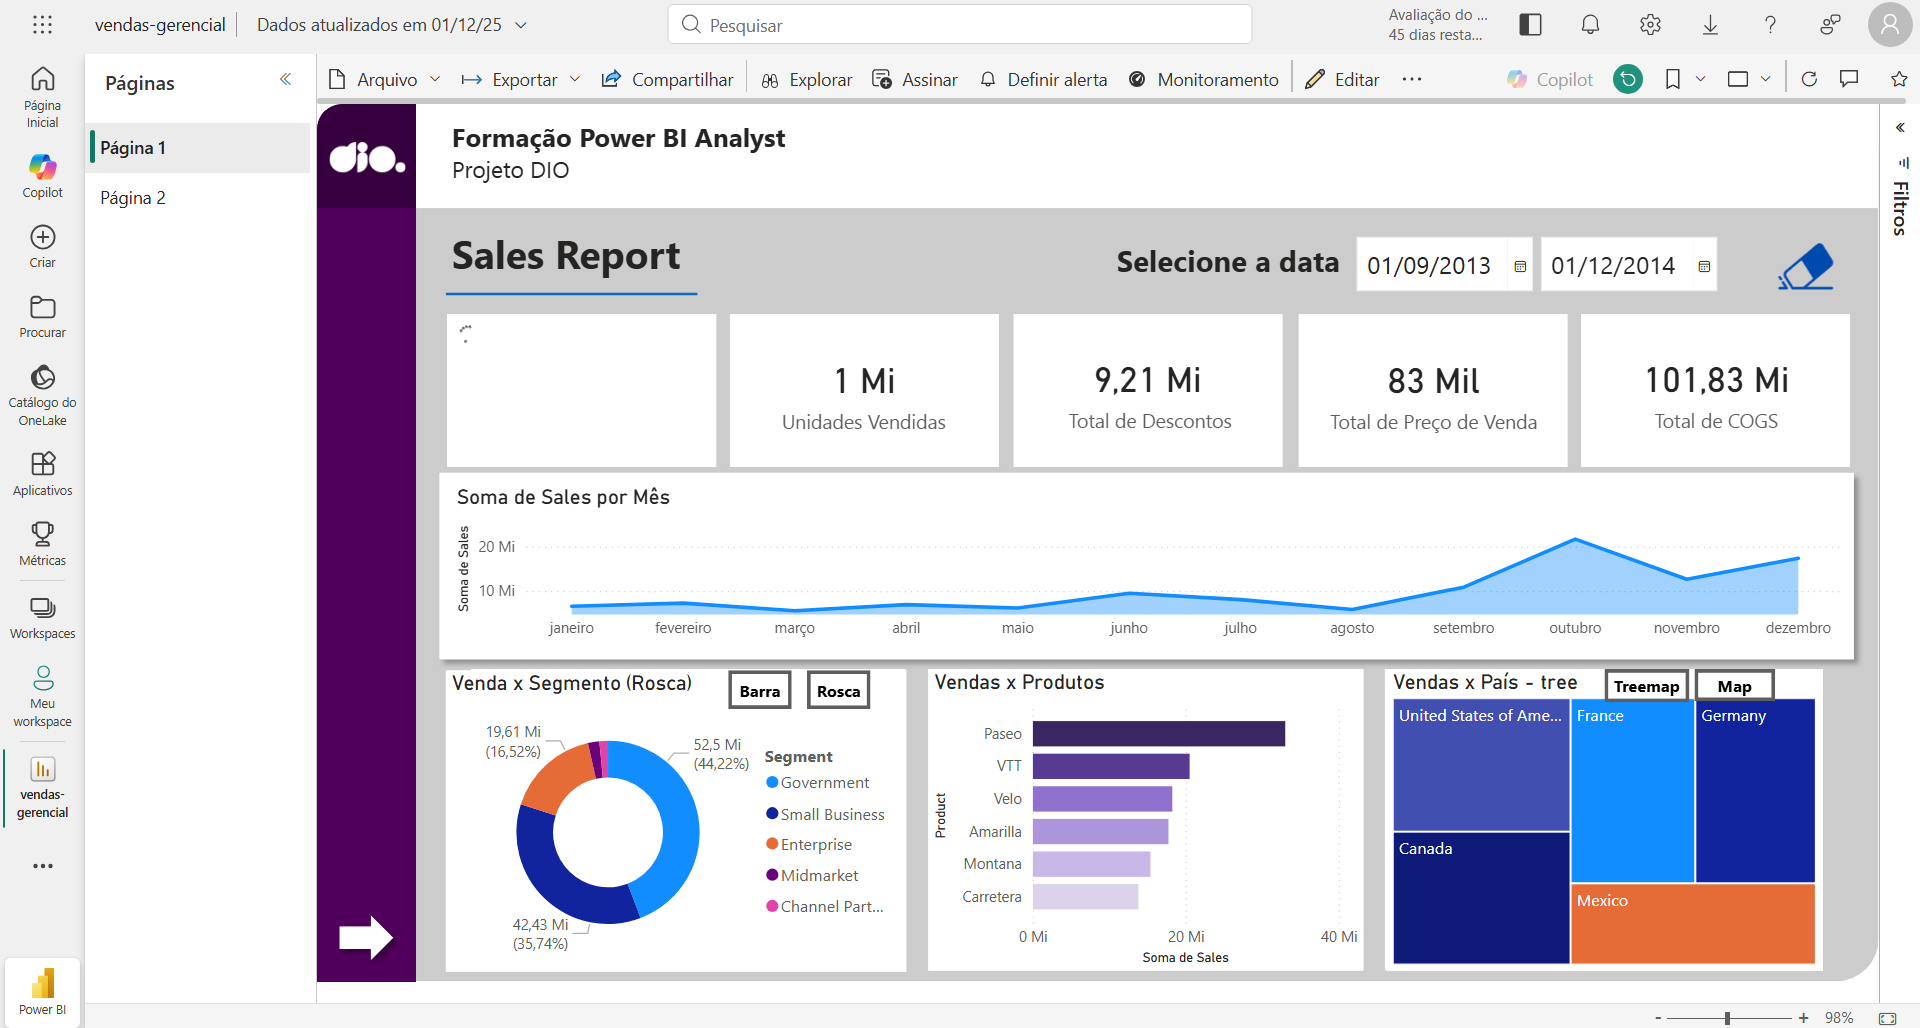

The dashboard page shown, as its layout file describes it:
{"tool":"powerbi","page":{"name":"Página 1","canvas":[1280,720],"ordinal":0},"visuals":[{"type":"shape","title":"Fundo cinza","box":[0,0,1280,719.2],"z":0},{"type":"textbox","box":[105.7,96.1,248.6,52.8],"z":0,"group":"g3"},{"type":"image","title":"limpar","box":[1161.5,110.8,117.1,44.8],"z":0,"group":"g2"},{"type":"shape","box":[106.2,172.5,221.2,125.6],"z":0,"group":"g1"},{"type":"slicer","fields":{"Values":["financials.Date"]},"box":[839.3,98.5,317,72],"z":1000,"group":"g2"},{"type":"shape","box":[105.7,134.5,206.5,40.8],"z":1000,"group":"g3"},{"type":"shape","box":[337.4,172.5,221.2,125.6],"z":1000,"group":"g1"},{"type":"map","title":"Vendas x País - map","fields":{"Category":["financials.Country"],"Size":["Sum(financials. Sales)"]},"box":[876.5,463.6,356.6,247.4],"z":1500,"group":"g5"},{"type":"shape","title":"Coluna Canto","box":[0,0,81.2,719.8],"z":2000},{"type":"textbox","box":[650.8,108.1,206.5,46.8],"z":2000,"group":"g2"},{"type":"shape","box":[570,172.5,221.2,125.6],"z":2000,"group":"g1"},{"type":"treemap","title":"Vendas x País - tree","fields":{"Values":["Sum(financials. Sales)"],"Group":["financials.Country"]},"box":[876.5,463.6,356.6,247.4],"z":2000,"group":"g5"},{"type":"donutChart","title":"Venda x Segmento (Rosca)","fields":{"Category":["financials.Segment"],"Y":["Sum(financials. Sales)"]},"box":[105.6,464.5,377.4,246.9],"z":2000,"group":"g4"},{"type":"shape","title":"Logo DIO Forma","box":[0,0,81.3,85.6],"z":3000},{"type":"actionButton","box":[1176.1,100.6,80.7,60.8],"z":3000,"group":"g2"},{"type":"shape","box":[804,172.5,221.2,125.6],"z":3000,"group":"g1"},{"type":"actionButton","title":"B - Map","box":[1128.9,463.6,66,26.4],"z":3000,"group":"g5"},{"type":"actionButton","title":"B - Barra","box":[337.4,464.2,52,31.8],"z":3000,"group":"g4"},{"type":"actionButton","title":"B - Rosca","box":[401.2,464.2,52.1,31.8],"z":3500,"group":"g4"},{"type":"image","title":"logo_dio","box":[10,0,62.8,87],"z":4000},{"type":"shape","box":[1035.2,172.5,221.2,125.6],"z":4000,"group":"g1"},{"type":"actionButton","title":"B - Treemap","box":[1055.1,464.1,69.5,27.3],"z":4000,"group":"g5"},{"type":"shape","title":"Caixa Apresentação","box":[81.3,0,1198.7,85.6],"z":5000},{"type":"card","fields":{"Values":["Sum(financials.COGS)"]},"box":[1041.6,178.5,210.1,112.9],"z":5000,"group":"g1"},{"type":"textbox","title":"Apresentação DIO","box":[105.7,7.2,650.8,72],"z":6000},{"type":"card","fields":{"Values":["Sum(financials.Discounts)"]},"box":[575.7,178.5,210.1,112.9],"z":6000,"group":"g1"},{"type":"group","id":"g1","title":"Cartões","box":[106.2,172.5,1150,126.2],"z":7000},{"type":"card","title":"Total de Lucro","fields":{"Values":["Sum(financials.Sale Price)"]},"box":[809.8,179.7,210.1,112.9],"z":7000,"group":"g1"},{"type":"card","fields":{"Values":["Sum(financials.Units Sold)"]},"box":[342.7,179.7,210.1,112.9],"z":8000,"group":"g1"},{"type":"shape","box":[91.2,292.5,1177.5,171.2],"z":8000},{"type":"card","fields":{"Values":["Sum(financials. Sales)"]},"box":[111,178.5,210.1,112.9],"z":9000,"group":"g1"},{"type":"shape","box":[126.1,463.5,356.6,247.4],"z":9000},{"type":"shape","box":[500.7,463.5,356.6,247.4],"z":10000},{"type":"shape","box":[875.3,463.5,356.6,247.4],"z":11000},{"type":"shape","title":"Seta","box":[9.6,655.6,62.4,55.2],"z":12000},{"type":"stackedAreaChart","fields":{"Category":["financials.Date.Variation.Hierarquia de datas.Mês"],"Y":["Sum(financials. Sales)"]},"box":[110,311.2,1146.2,136.2],"z":13000},{"type":"clusteredBarChart","title":"Vendas x Produtos","fields":{"Category":["financials.Product"],"Y":["Sum(financials. Sales)"]},"box":[500.7,463.5,356.6,247.4],"z":14000},{"type":"group","id":"g2","title":"Filtro por data","box":[650.8,98.5,627.9,72],"z":15000},{"type":"group","id":"g3","title":"Título","box":[105.7,96.1,248.6,79.2],"z":16000},{"type":"group","id":"g4","title":"Venda por Segmento","box":[105.6,464.2,377.4,247.3],"z":17500},{"type":"group","id":"g5","title":"Vendas por País","box":[876.5,463.6,356.6,247.4],"z":18000}]}

Visuals, with their boxes on the page's 1280x720 design canvas (x1, y1, x2, y2). These are canvas units, not pixel positions in the 1920x1028 screenshot, which may show the page scaled, cropped or inside an application window:
"Fundo cinza" shape: left=0, top=0, right=1280, bottom=719
textbox: left=106, top=96, right=354, bottom=149
"limpar" image: left=1162, top=111, right=1279, bottom=156
shape: left=106, top=172, right=327, bottom=298
slicer - financials.Date: left=839, top=98, right=1156, bottom=170
shape: left=106, top=134, right=312, bottom=175
shape: left=337, top=172, right=559, bottom=298
"Vendas x País - map" map: left=876, top=464, right=1233, bottom=711
"Coluna Canto" shape: left=0, top=0, right=81, bottom=720
textbox: left=651, top=108, right=857, bottom=155
shape: left=570, top=172, right=791, bottom=298
"Vendas x País - tree" treemap: left=876, top=464, right=1233, bottom=711
"Venda x Segmento (Rosca)" donutChart: left=106, top=464, right=483, bottom=711
"Logo DIO Forma" shape: left=0, top=0, right=81, bottom=86
actionButton: left=1176, top=101, right=1257, bottom=161
shape: left=804, top=172, right=1025, bottom=298
"B - Map" actionButton: left=1129, top=464, right=1195, bottom=490
"B - Barra" actionButton: left=337, top=464, right=389, bottom=496
"B - Rosca" actionButton: left=401, top=464, right=453, bottom=496
"logo_dio" image: left=10, top=0, right=73, bottom=87
shape: left=1035, top=172, right=1256, bottom=298
"B - Treemap" actionButton: left=1055, top=464, right=1125, bottom=491
"Caixa Apresentação" shape: left=81, top=0, right=1280, bottom=86
card - Sum(financials.COGS): left=1042, top=178, right=1252, bottom=291
"Apresentação DIO" textbox: left=106, top=7, right=756, bottom=79
card - Sum(financials.Discounts): left=576, top=178, right=786, bottom=291
"Cartões" group: left=106, top=172, right=1256, bottom=299
"Total de Lucro" card: left=810, top=180, right=1020, bottom=293
card - Sum(financials.Units Sold): left=343, top=180, right=553, bottom=293
shape: left=91, top=292, right=1269, bottom=464
card - Sum(financials. Sales): left=111, top=178, right=321, bottom=291
shape: left=126, top=464, right=483, bottom=711
shape: left=501, top=464, right=857, bottom=711
shape: left=875, top=464, right=1232, bottom=711
"Seta" shape: left=10, top=656, right=72, bottom=711
stackedAreaChart - financials.Date.Variation.Hierarquia de datas.Mês x Sum(financials. Sales): left=110, top=311, right=1256, bottom=447
"Vendas x Produtos" clusteredBarChart: left=501, top=464, right=857, bottom=711
"Filtro por data" group: left=651, top=98, right=1279, bottom=170
"Título" group: left=106, top=96, right=354, bottom=175
"Venda por Segmento" group: left=106, top=464, right=483, bottom=712
"Vendas por País" group: left=876, top=464, right=1233, bottom=711
